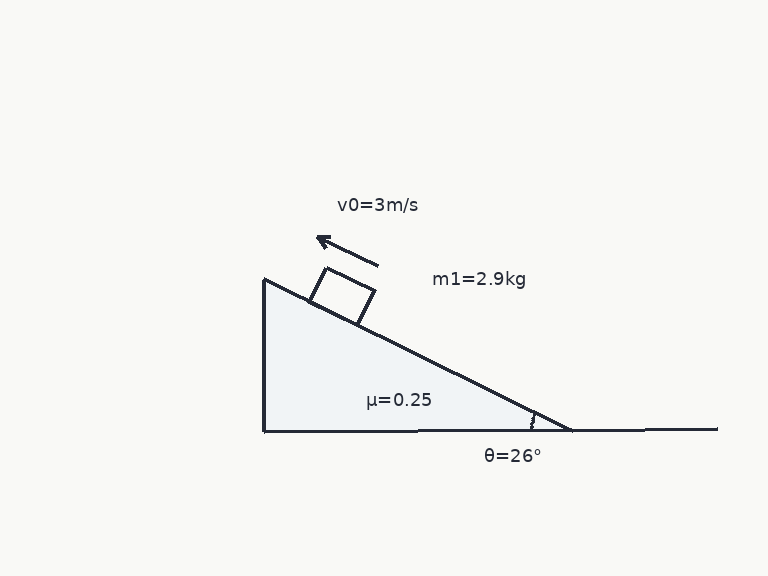block: (306, 265, 376, 327)
ramp: (262, 278, 573, 432)
